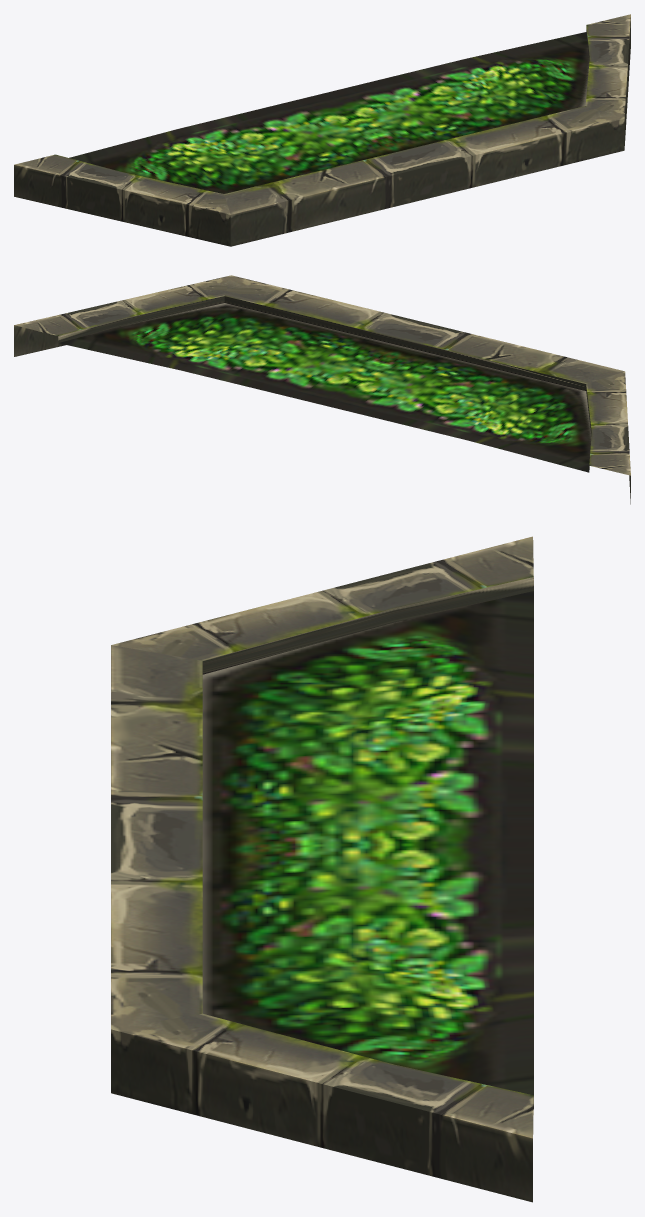
Rendered from LvHua01.FBX.
The picture shows the model from 3 angles, top to bottom: view 1: azimuth 30°, elevation 25°; view 2: azimuth 150°, elevation 25°; view 3: azimuth 270°, elevation 25°; orthographic projection. The views are drawn at different scales.
Parts seen in each view (by area): view 1: LvHua01; view 2: LvHua01; view 3: LvHua01.
Part boxes in pixels (x1,y1,x2,y2): LvHua01: (14, 14, 630, 246); LvHua01: (14, 275, 630, 504); LvHua01: (111, 536, 533, 1202).
Bounding box in the file's own units: 215 × 10.66 × 63.89.
